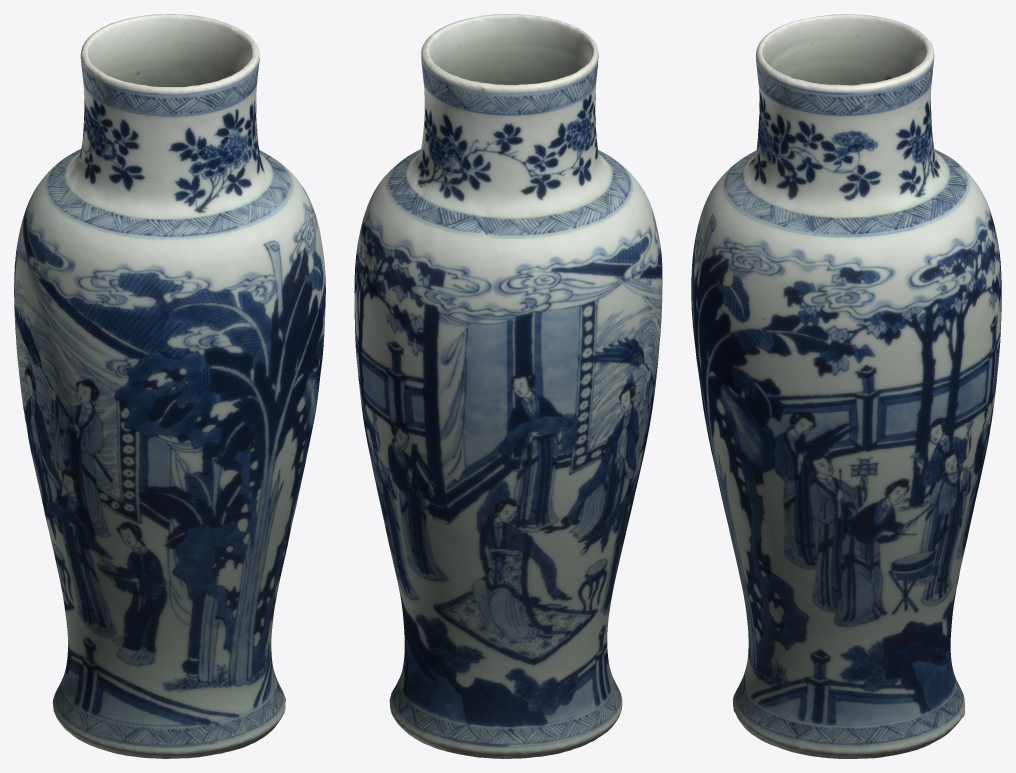
The model's file is f1980_191-mesh-smooth-textured-150k-2048-medium-100k-2048_std_draco.glb.
The picture shows the model from 3 angles, left to right: view 1: azimuth 30°, elevation 25°; view 2: azimuth 150°, elevation 25°; view 3: azimuth 270°, elevation 25°; orthographic projection.
Bounding box in the file's own units: 0.1708 × 0.4053 × 0.1718.
Materials: 1 (1 with a texture image).
